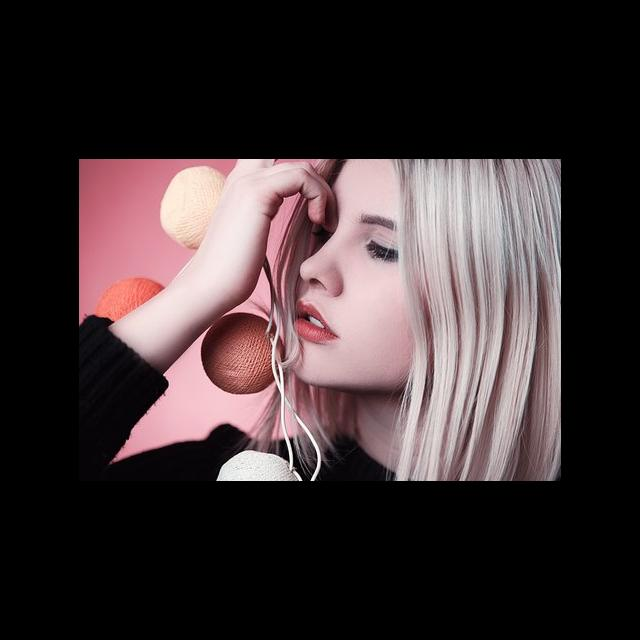female: (274, 159, 561, 400)
